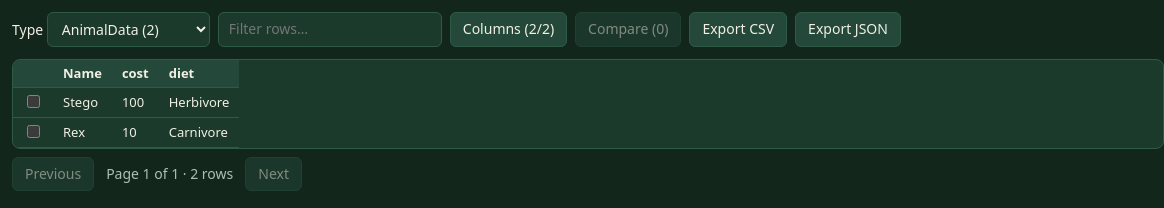
Test: TableView › compares the selected rows
Check: the text "Herbivore" is shown, box left=159, top=87, right=239, bottom=117
Click the checkbox named "Select Stego": click(34, 101) left=27, top=95, right=40, bottom=108
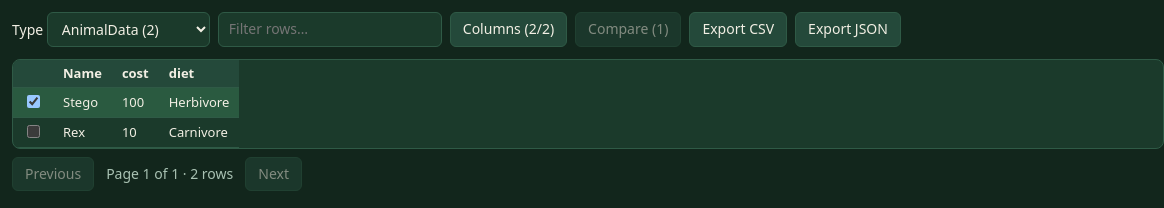
Click the checkbox named "Select Rex": click(34, 131) left=27, top=125, right=40, bottom=138
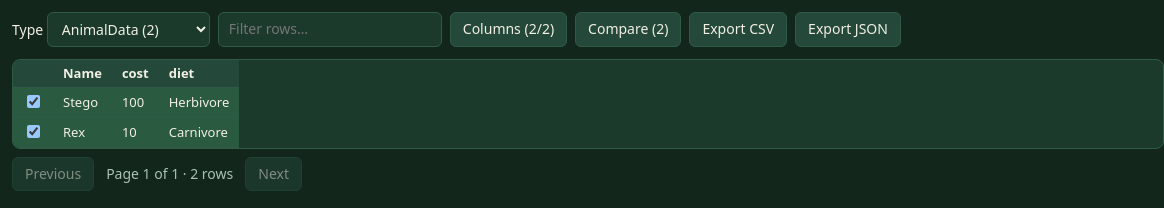
Click the button "Compare (2)": click(628, 29) left=575, top=12, right=681, bottom=47
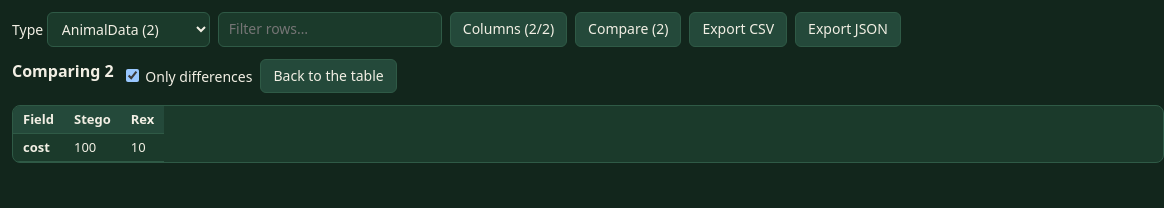
Check: the heading "Comparing 2" is shown, box left=12, top=60, right=114, bottom=83
